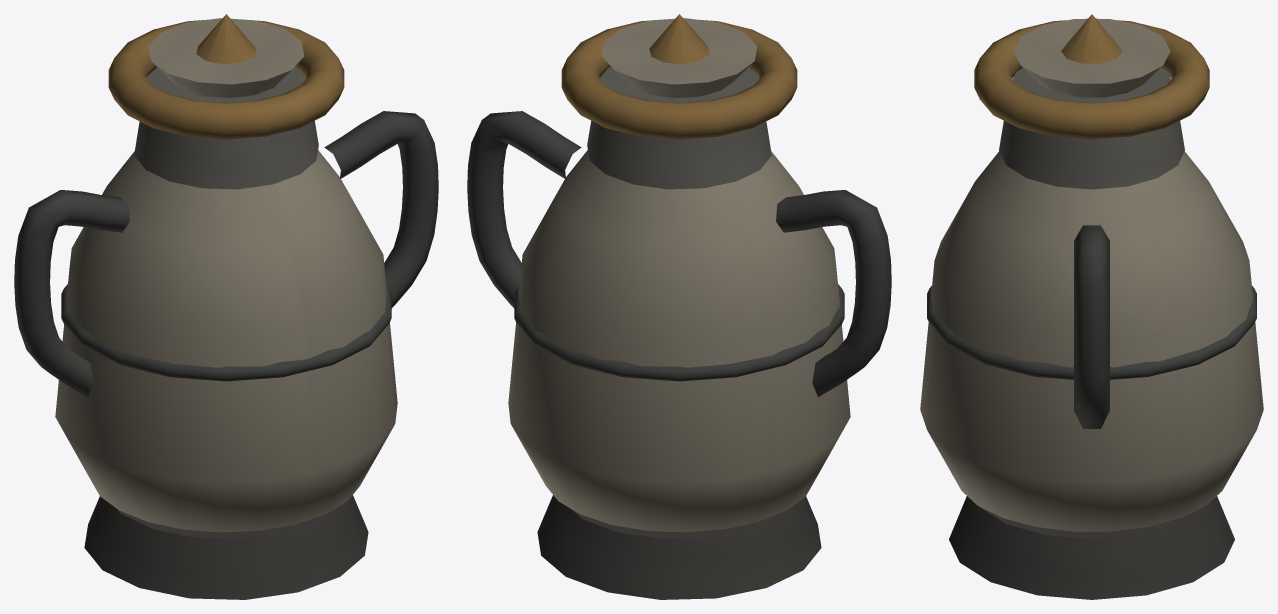
Rendered from sk-household-urn.glb.
3 views of the same model, side by side, from view 1: azimuth 30°, elevation 25°; view 2: azimuth 150°, elevation 25°; view 3: azimuth 270°, elevation 25° (orthographic).
Visible parts, largest first — view 1: household:urn-static-stone, household:urn-static-metal (×2), urn-foot, urn-neck; view 2: household:urn-static-stone, household:urn-static-metal (×2), urn-foot, urn-neck; view 3: household:urn-static-stone, household:urn-static-metal (×2), urn-foot, urn-neck.
Boxes of the visible parts, x1=… form: household:urn-static-stone: x1=55, y1=18, x2=397, y2=532; household:urn-static-metal (×2): x1=14, y1=14, x2=438, y2=397; urn-foot: x1=84, y1=495, x2=368, y2=599; urn-neck: x1=134, y1=67, x2=318, y2=189; household:urn-static-stone: x1=508, y1=18, x2=850, y2=532; household:urn-static-metal (×2): x1=467, y1=14, x2=891, y2=397; urn-foot: x1=537, y1=495, x2=821, y2=599; urn-neck: x1=587, y1=67, x2=771, y2=189; household:urn-static-stone: x1=920, y1=19, x2=1263, y2=531; household:urn-static-metal (×2): x1=927, y1=14, x2=1256, y2=428; urn-foot: x1=949, y1=496, x2=1234, y2=599; urn-neck: x1=999, y1=68, x2=1184, y2=189.
Size of the model in its own units: 0.6698 by 0.81 by 0.48.
Materials: 5 (5 with a texture image).
